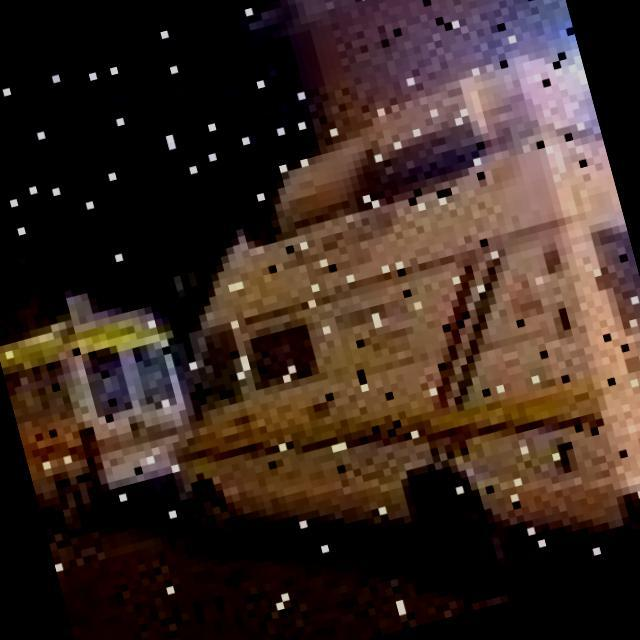emergency-vehicle: (91, 40, 640, 640), (0, 287, 211, 522)
